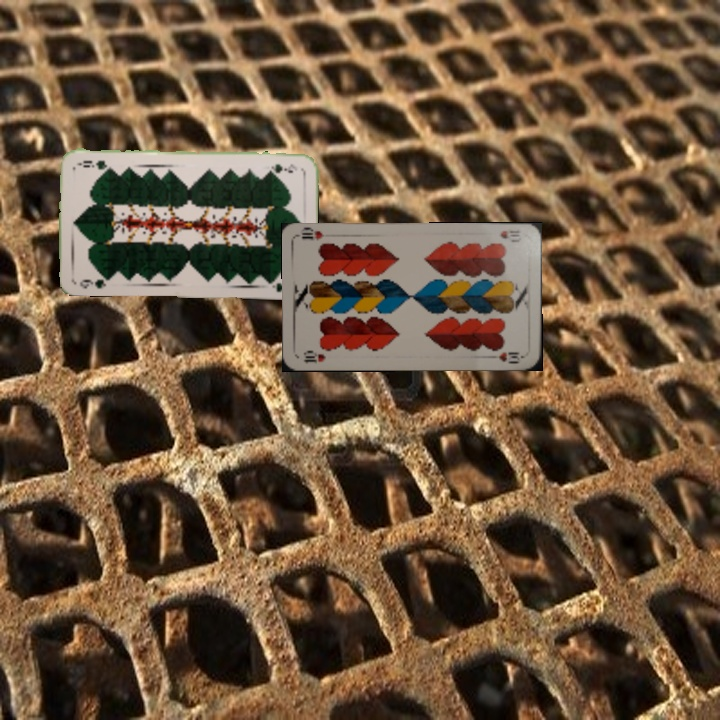G9: (76, 272, 112, 291), (265, 160, 299, 175)
H10: (496, 226, 523, 245), (300, 347, 328, 365)
